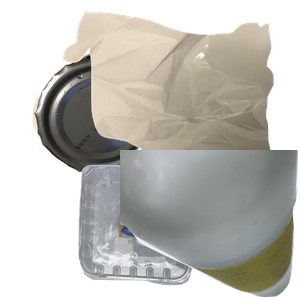glass: (120, 150, 300, 300)
metal: (30, 46, 205, 215)
plastic: (76, 162, 264, 300)
trash: (61, 10, 300, 190)
